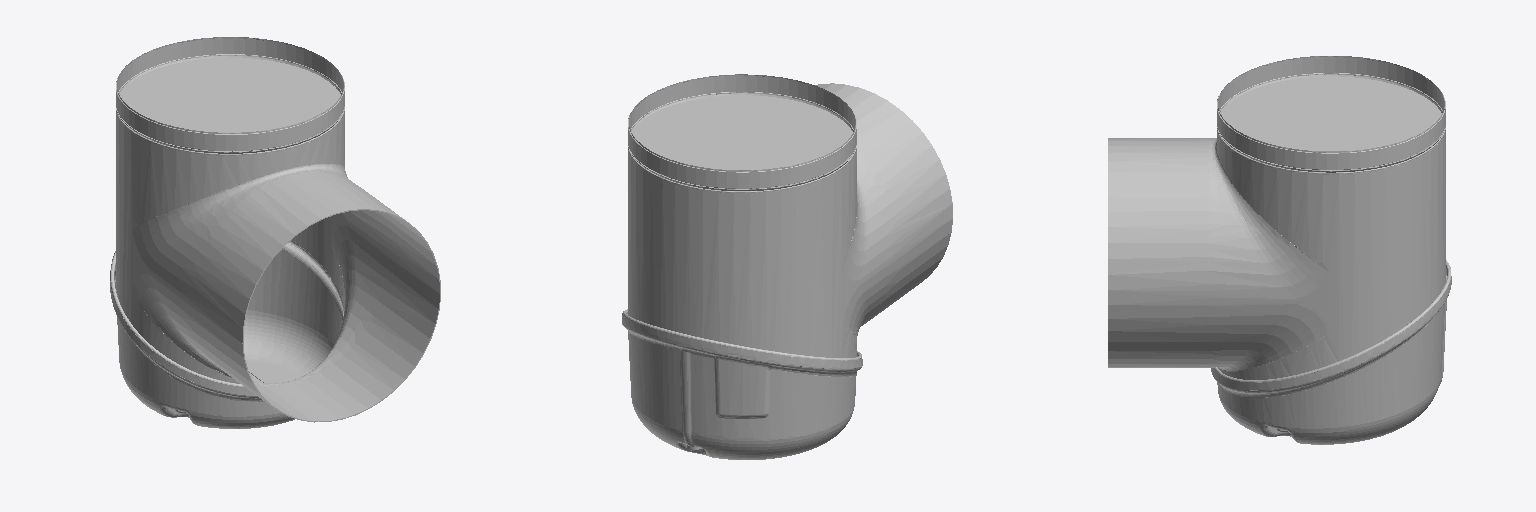
The model's file is wrist_1_link_visuals_wrist1_mesh.obj.
3 renders of one model, left to right at view 1: azimuth 30°, elevation 25°; view 2: azimuth 150°, elevation 25°; view 3: azimuth 270°, elevation 25°, orthographic.
Bounding box in the file's own units: 0.0787 × 0.1099 × 0.1122.